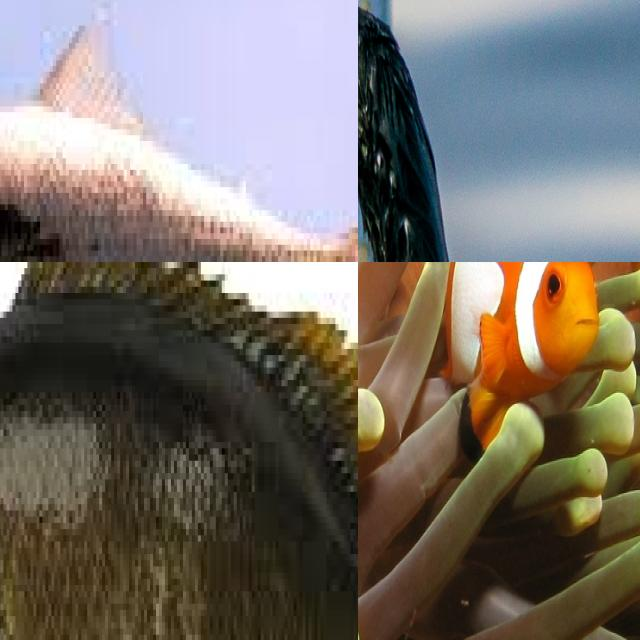fish: (0, 0, 358, 262), (121, 495, 358, 640)
